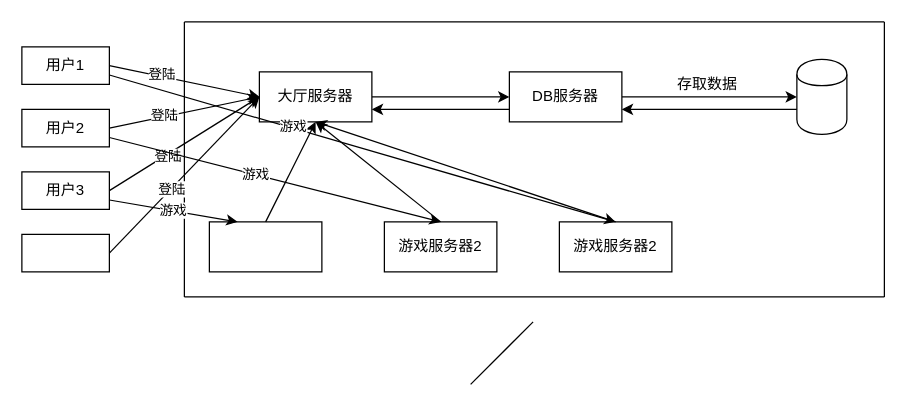
The diagram is 908 pixels wide and 408 high, and some of its shapes have lost their labels. Each missing label, with the centre of its shape:
"MySQL" belongs at (821,96).
"游戏服务器1" belongs at (265,246).
"用户4" belongs at (65,252).
